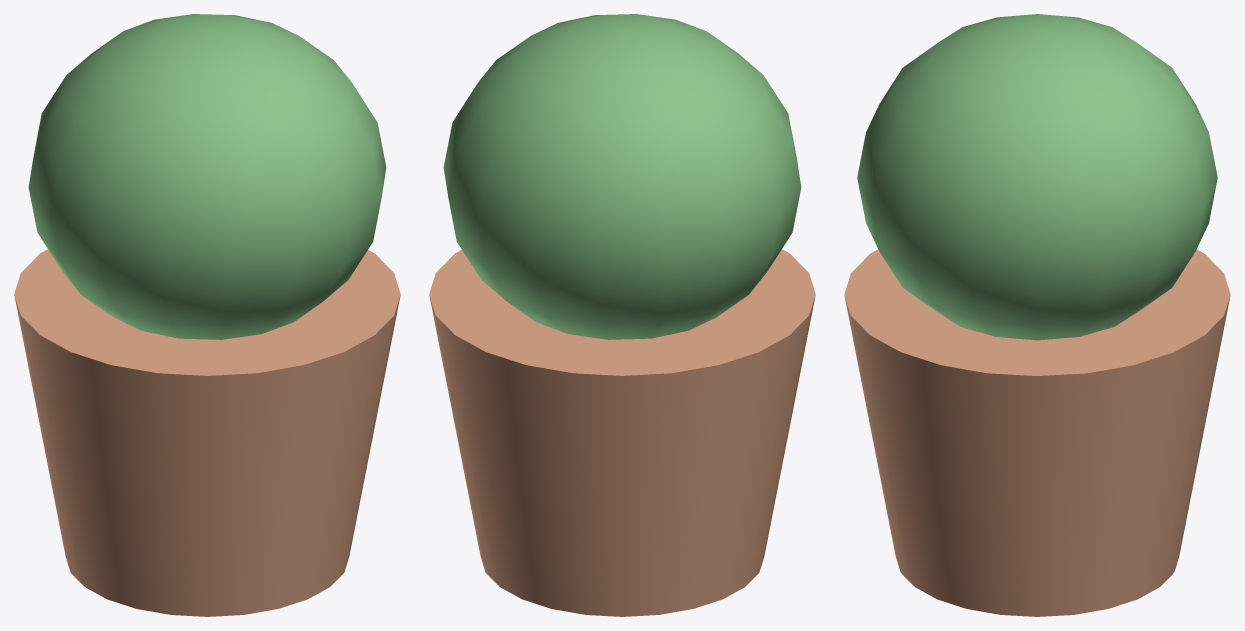
File: planter.glb
The picture shows the model from 3 angles, left to right: view 1: azimuth 30°, elevation 25°; view 2: azimuth 150°, elevation 25°; view 3: azimuth 270°, elevation 25°; orthographic projection.
Visible parts, largest first — view 1: Pot, Bush; view 2: Pot, Bush; view 3: Pot, Bush.
Part boxes in pixels (x1,y1,x2,y2): Pot: (14, 249, 400, 616); Bush: (28, 14, 386, 339); Pot: (429, 249, 815, 616); Bush: (443, 14, 801, 339); Pot: (844, 249, 1230, 616); Bush: (857, 14, 1217, 340).
Size of the model in its own units: 0.6 by 0.902 by 0.6.
